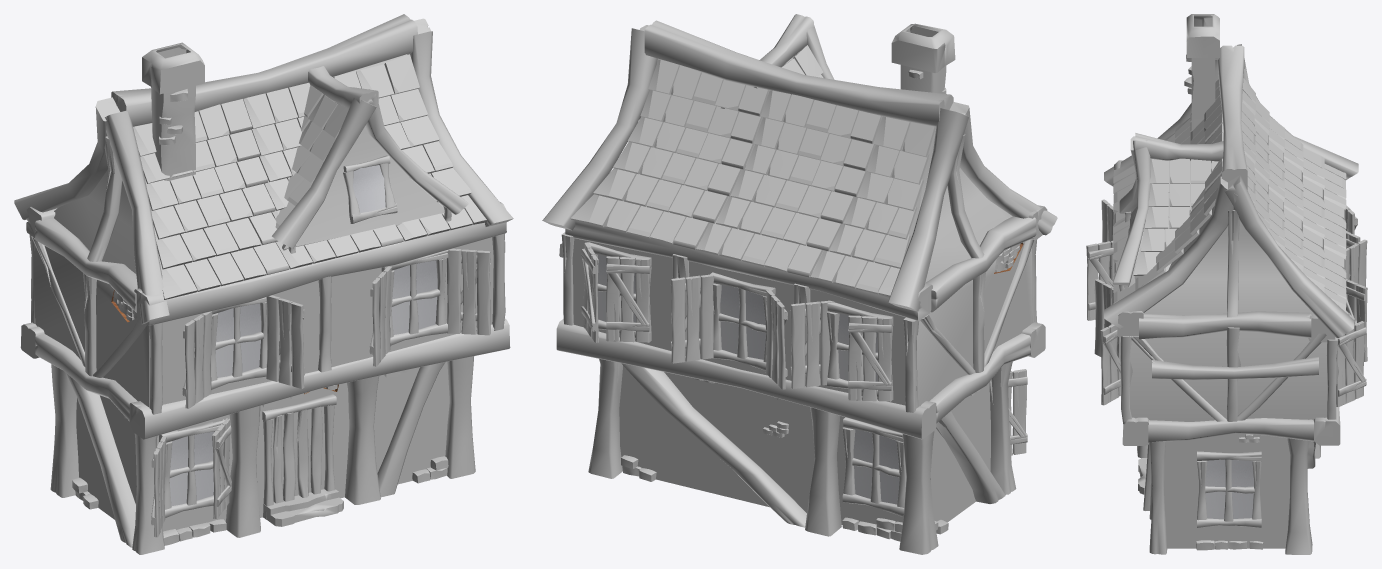
File: CasaTres.fbx
The picture shows the model from 3 angles, left to right: view 1: azimuth 30°, elevation 25°; view 2: azimuth 150°, elevation 25°; view 3: azimuth 270°, elevation 25°; orthographic projection. The views are drawn at different scales.
Visible parts, largest first — view 1: Object060; view 2: Object060; view 3: Object060.
Part boxes in pixels (left/top/right/bottom): Object060: left=14, top=14, right=513, bottom=554; Object060: left=542, top=14, right=1057, bottom=554; Object060: left=1086, top=14, right=1367, bottom=554.
Bounding box in the file's own units: 2.75 × 3.21 × 1.97.
